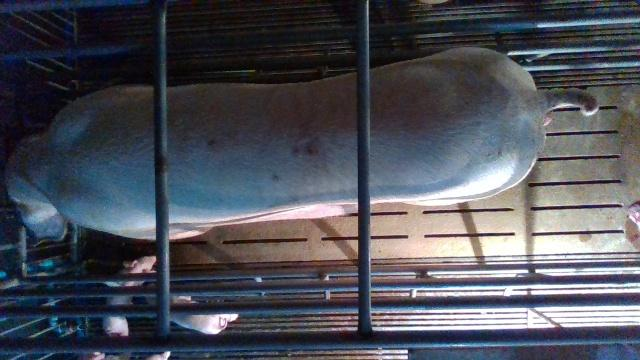piglet: (147, 283, 239, 335), (104, 255, 158, 337)
sow-stand-feed: (6, 47, 599, 248)
